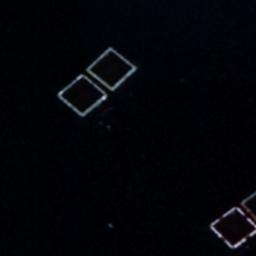square_solid: (84, 42, 139, 95), (54, 71, 113, 120), (203, 202, 256, 253)
